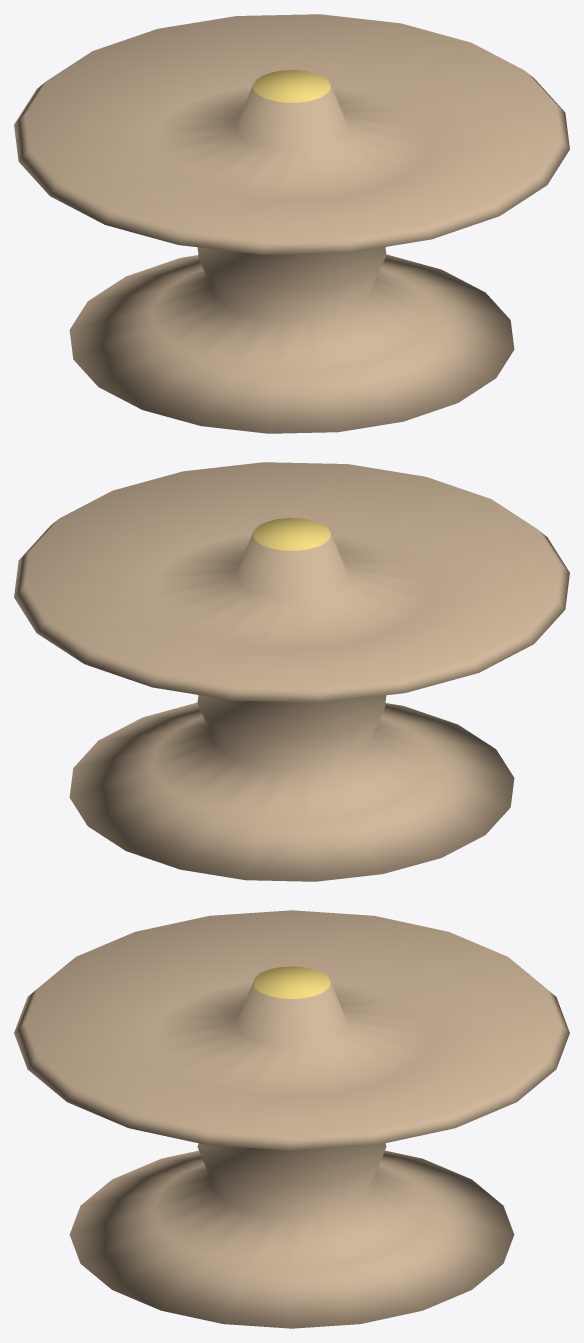
The model's file is fountain_column.glb.
The picture shows the model from 3 angles, top to bottom: view 1: azimuth 30°, elevation 25°; view 2: azimuth 150°, elevation 25°; view 3: azimuth 270°, elevation 25°; orthographic projection.
Visible parts, largest first — view 1: fountain_column; view 2: fountain_column; view 3: fountain_column.
Part boxes in pixels (bbox=[...]): fountain_column: bbox=[14, 14, 569, 433]; fountain_column: bbox=[14, 462, 569, 881]; fountain_column: bbox=[14, 910, 569, 1328].
Bounding box in the file's own units: 2 × 1 × 2.
